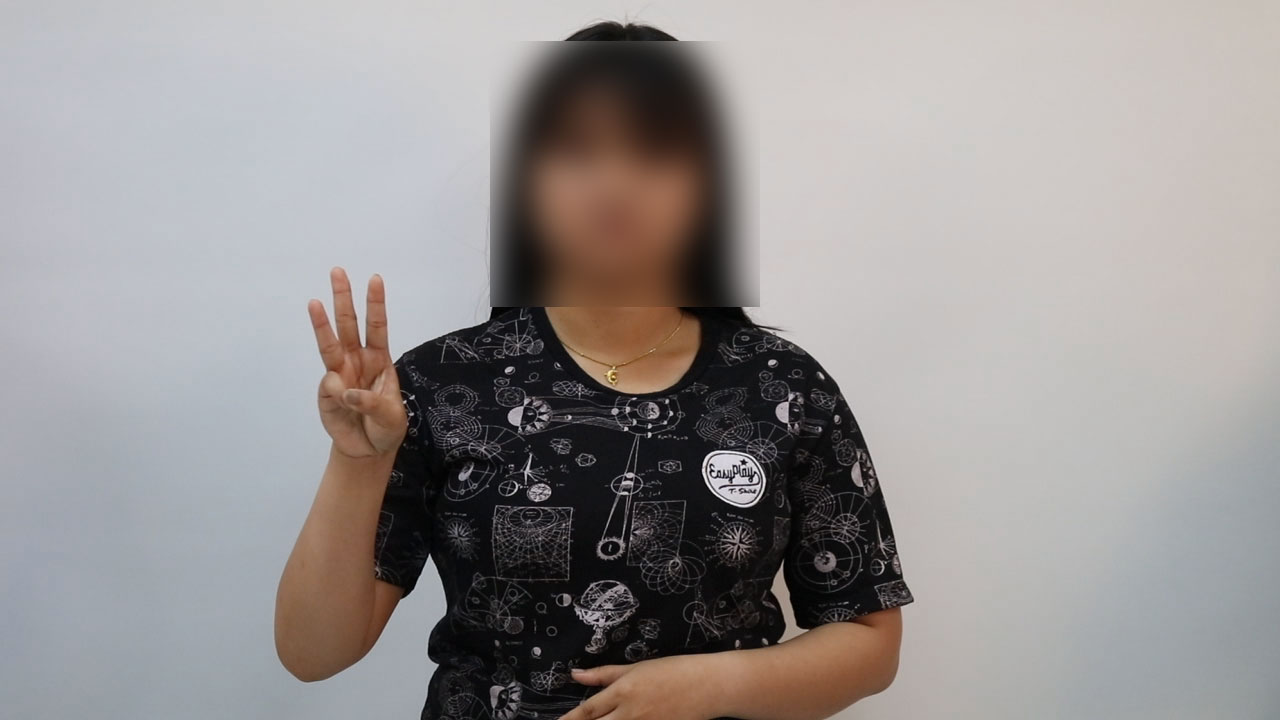wor: (298, 261, 413, 476)
